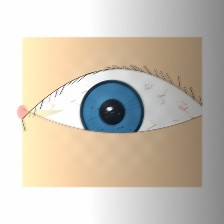pterygium_lesion: (22, 92, 71, 132)
